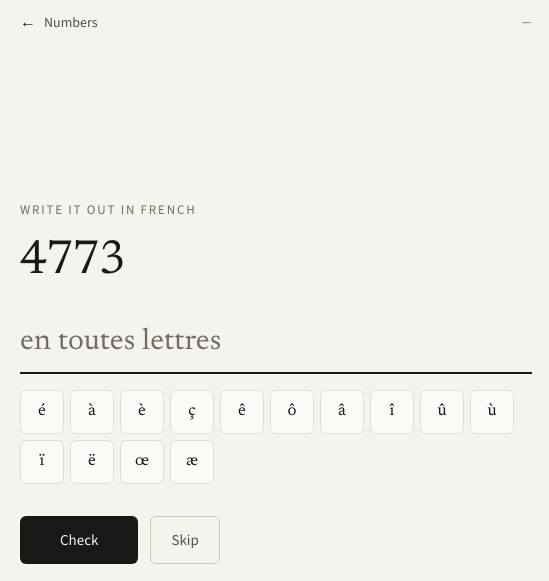
Test case: the drill › rejects a wrong answer and shows the spelling
In the field named "your answer": (276, 349) [20,324,532,374], type "quelque chose"
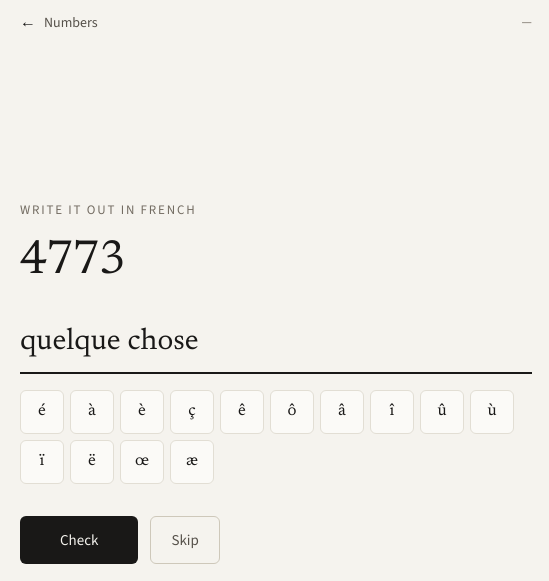
Click the button "Check": (79, 540) [20,516,138,564]
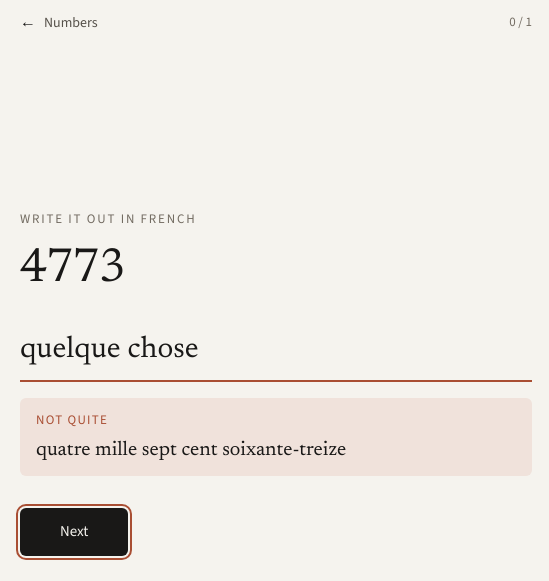
Check: the text "Not quite" is shown, box [36,411,108,428]
